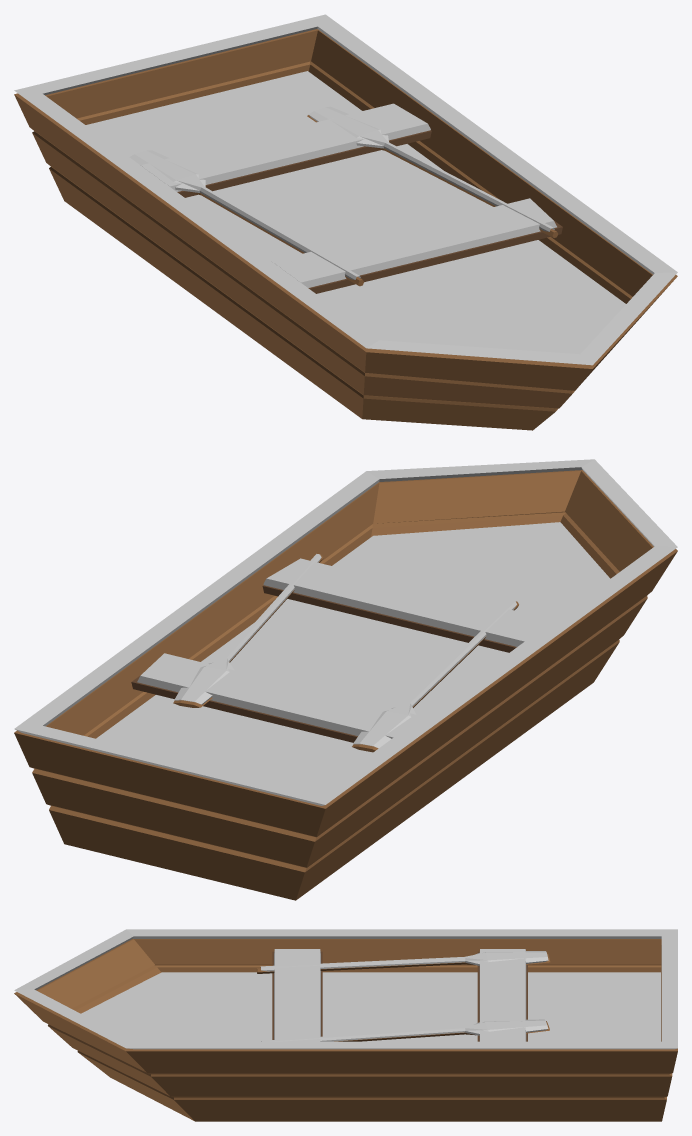
The model's file is Boat_base_snow_mat.fbx.
3 views of the same model, one above another, from view 1: azimuth 30°, elevation 25°; view 2: azimuth 150°, elevation 25°; view 3: azimuth 270°, elevation 25° (orthographic). The views are drawn at different scales.
Visible parts, largest first — view 1: Boat_base_snow_mat; view 2: Boat_base_snow_mat; view 3: Boat_base_snow_mat.
Part boxes in pixels (bbox=[...]): Boat_base_snow_mat: bbox=[14, 14, 677, 430]; Boat_base_snow_mat: bbox=[14, 459, 677, 900]; Boat_base_snow_mat: bbox=[14, 929, 677, 1121].
Size of the model in its own units: 71.44 by 24.74 by 168.
